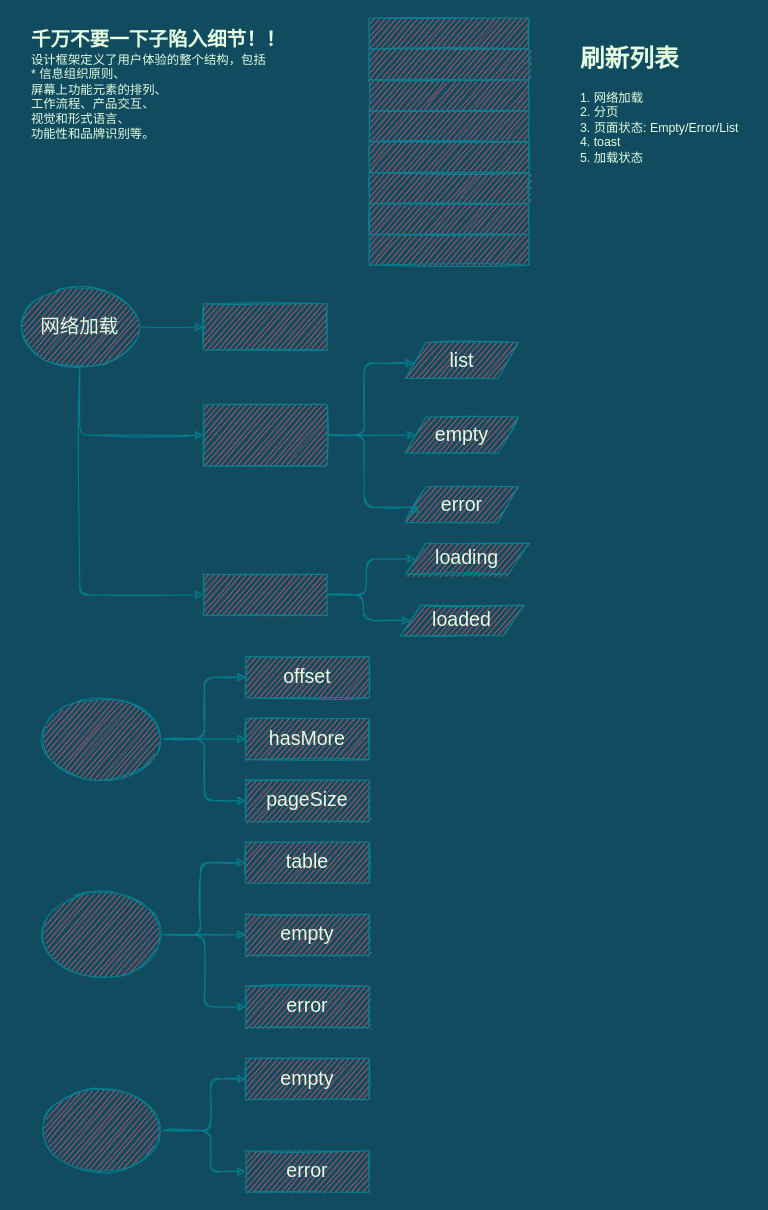
Image size: 768x1210. Some labels were removed from this diagram. Here are the shapes that lost their labels. From the top down, the centre of each, then its label:
At point (264, 326): "load action".
At point (264, 434): "Observable Result".
At point (264, 594): "loadState".
At point (101, 738): "分页".
At point (101, 934): "View".
At point (101, 1130): "Toast".
